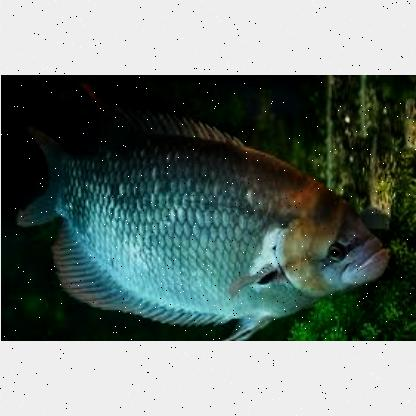gurame: (26, 117, 388, 327)
